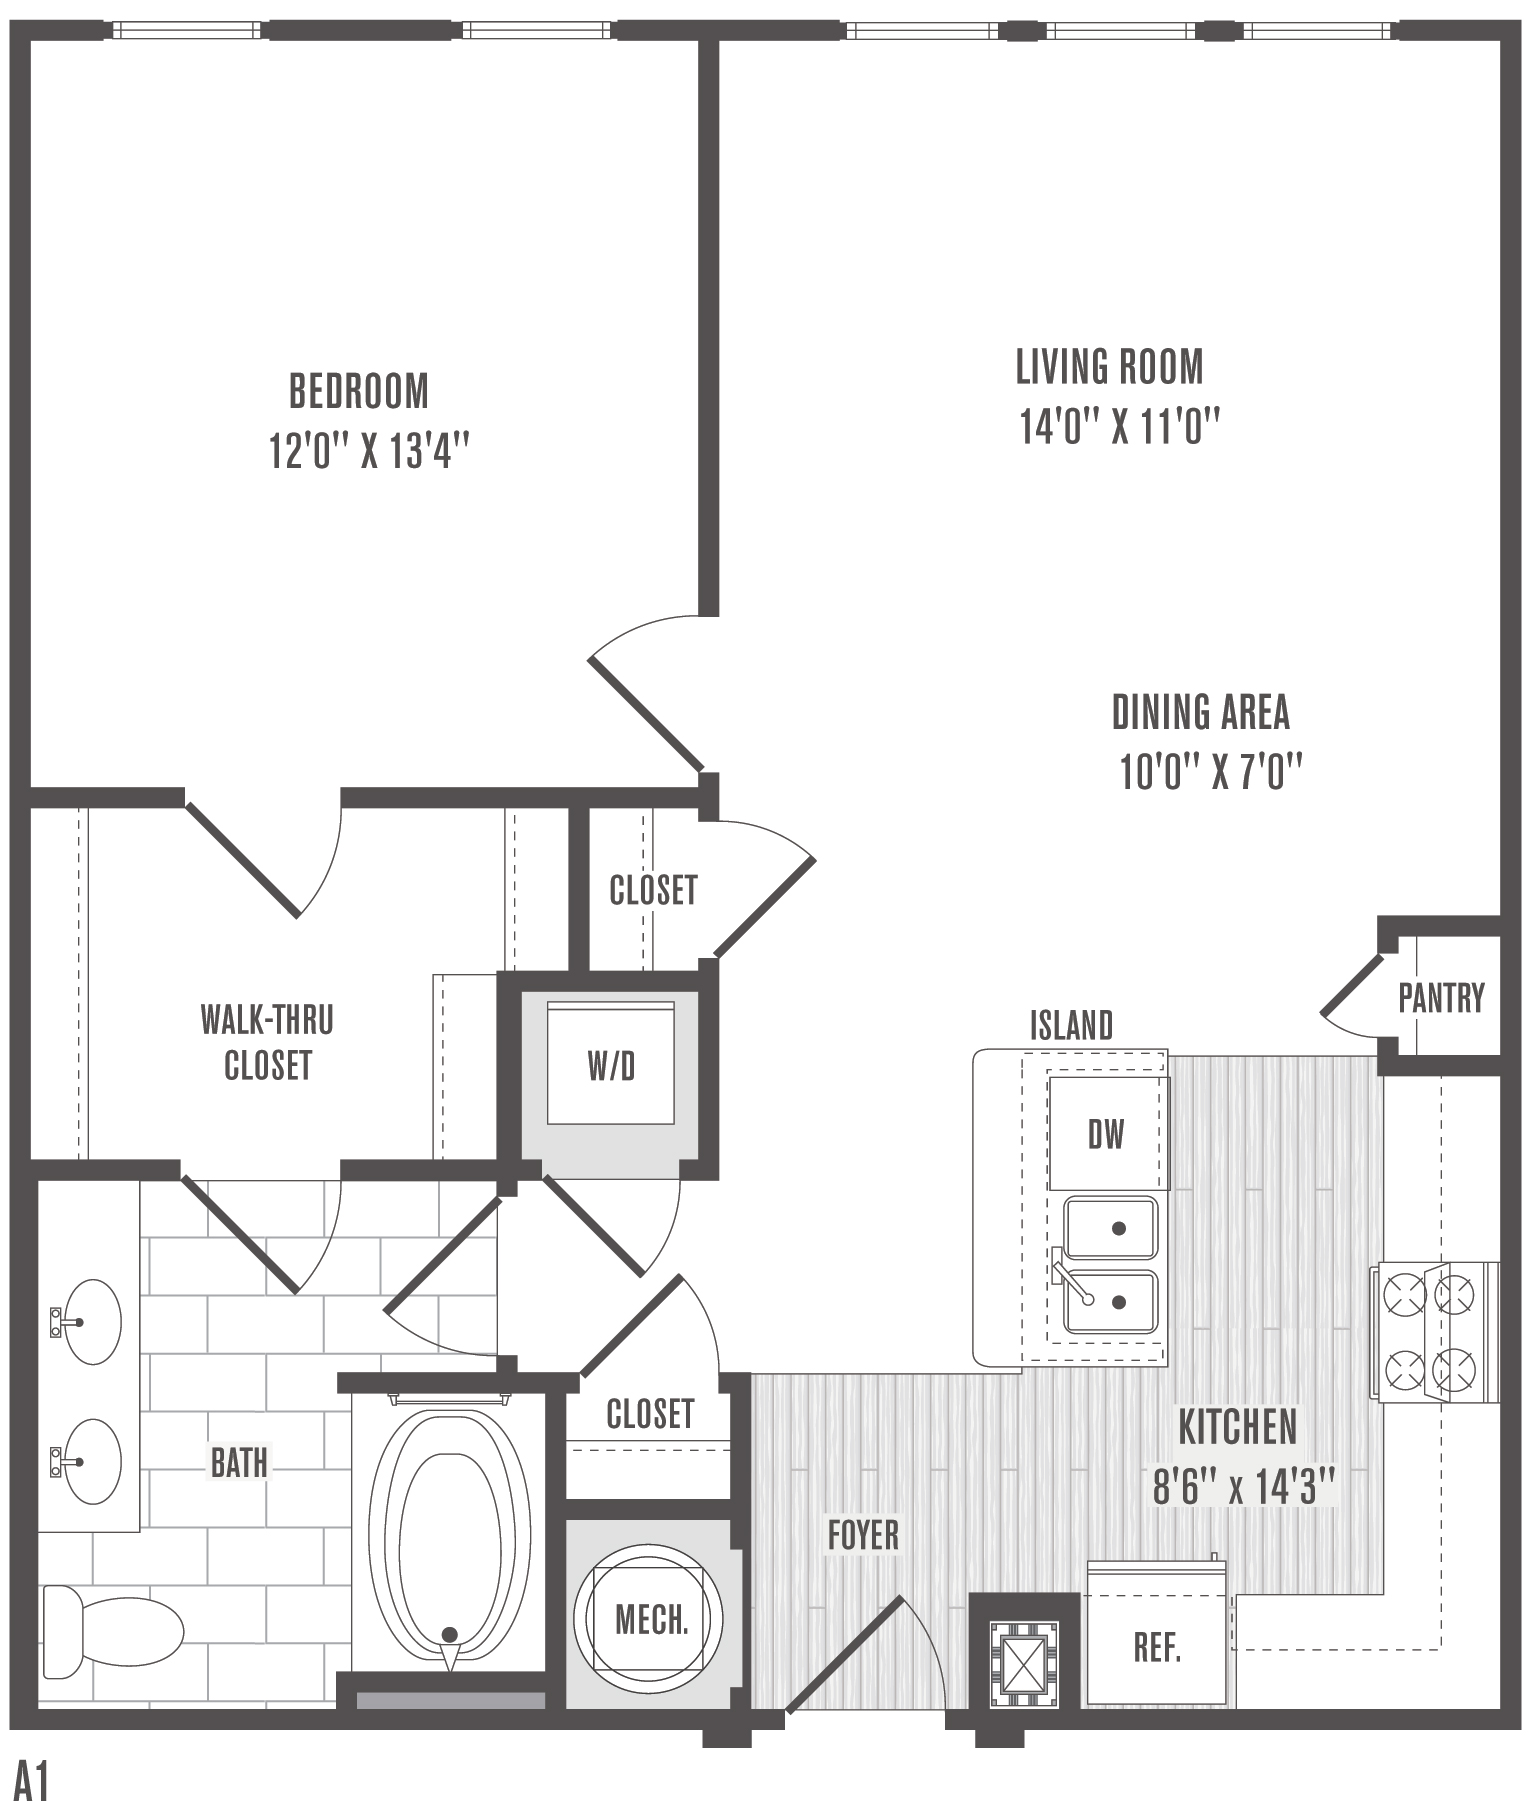wall: (23, 24, 1506, 30), (1512, 46, 1519, 1063), (709, 40, 722, 595), (14, 24, 23, 799), (1512, 1072, 1519, 1710), (24, 1717, 739, 1723), (23, 1177, 27, 1717), (18, 799, 24, 1153), (517, 978, 713, 987), (336, 1164, 528, 1173), (961, 1714, 1509, 1717), (1392, 1056, 1525, 1066), (1389, 914, 1516, 925), (345, 793, 712, 796), (20, 800, 23, 1162), (20, 1167, 170, 1173), (735, 1381, 739, 1556), (342, 1381, 564, 1384), (506, 984, 509, 1186), (557, 1517, 732, 1520), (33, 796, 175, 799), (712, 987, 713, 1167)
